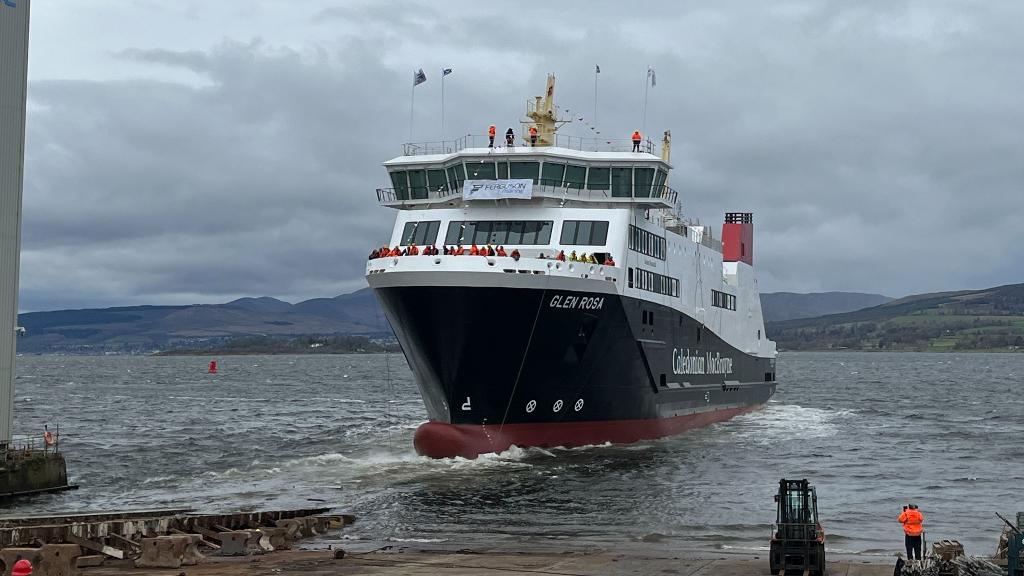PassengerShip: (356, 54, 798, 479)
